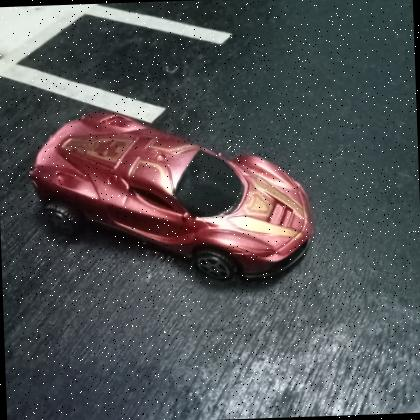Car: (28, 113, 314, 283)
